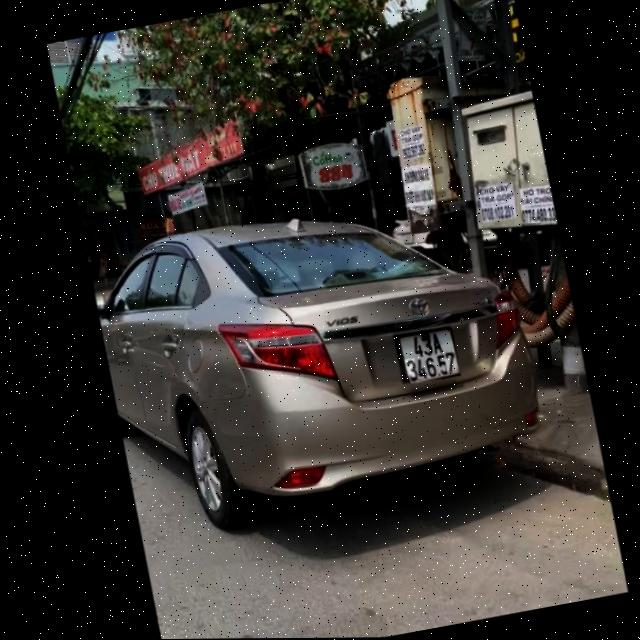car: (74, 164, 563, 562)
plate: (384, 316, 469, 391)
